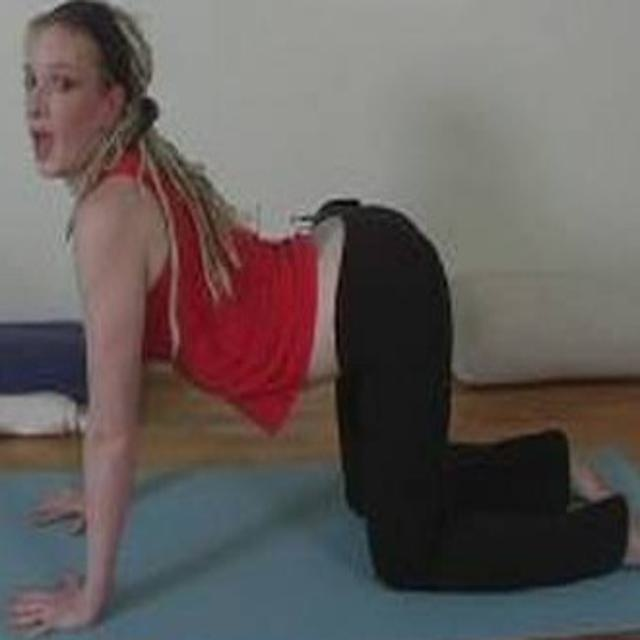Cow_Pose: (13, 7, 636, 628)
